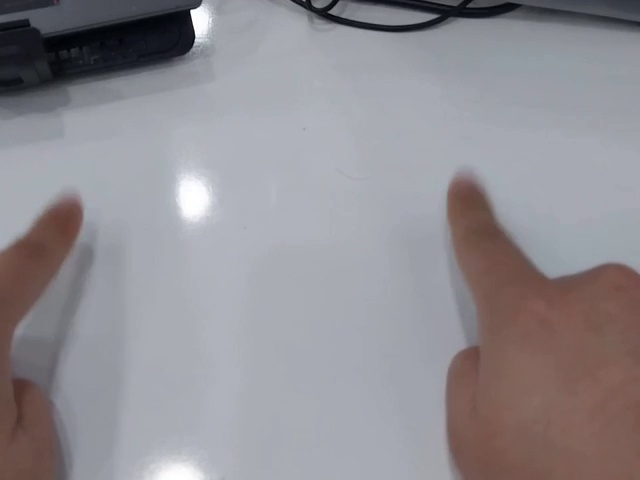fingers: (447, 174, 492, 220), (43, 196, 85, 245)
